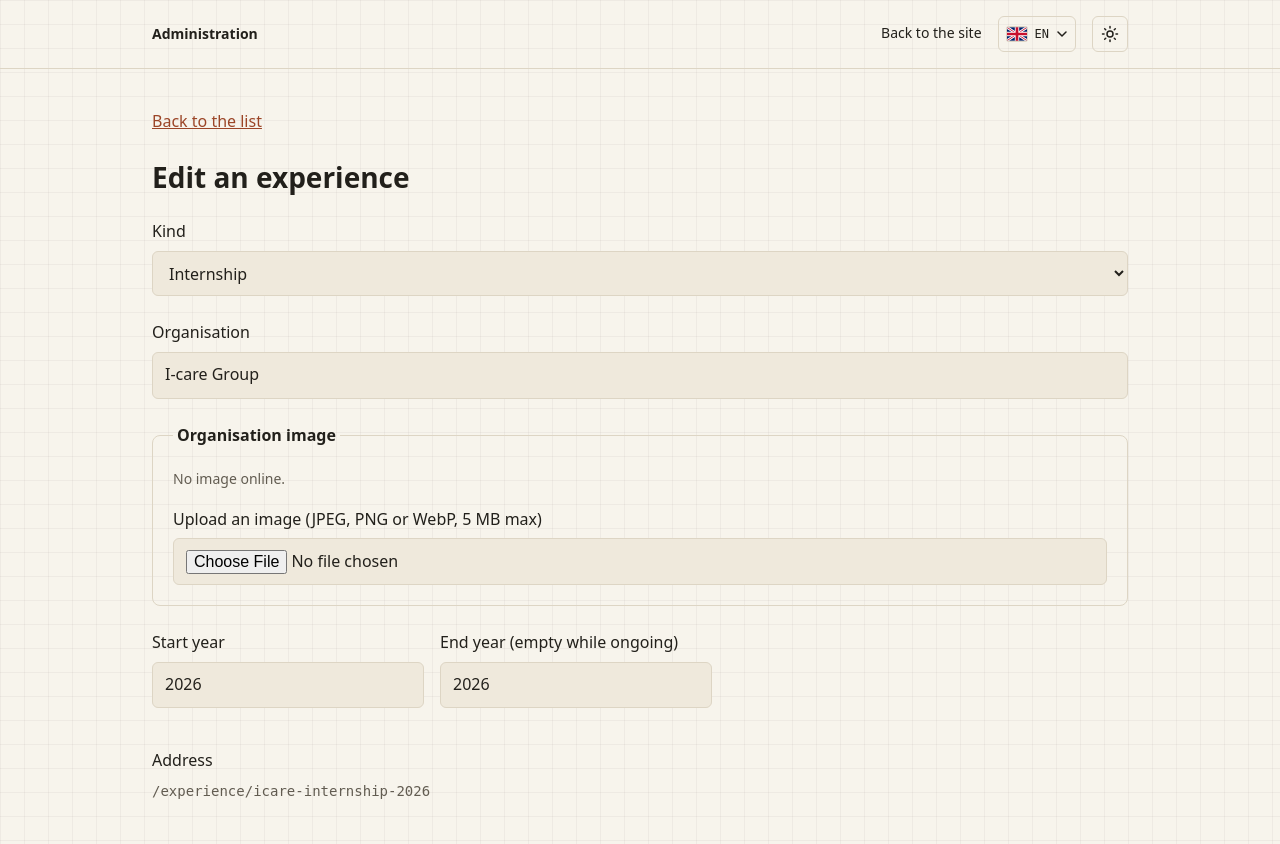
Test: editing an experience › saves twice in a row
The width and height of the screenshot is (1280, 844).
Replace the text in the field labelled "Organisation" with "First" at (640, 375), box [152,352,1128,399]
(page scrolled)
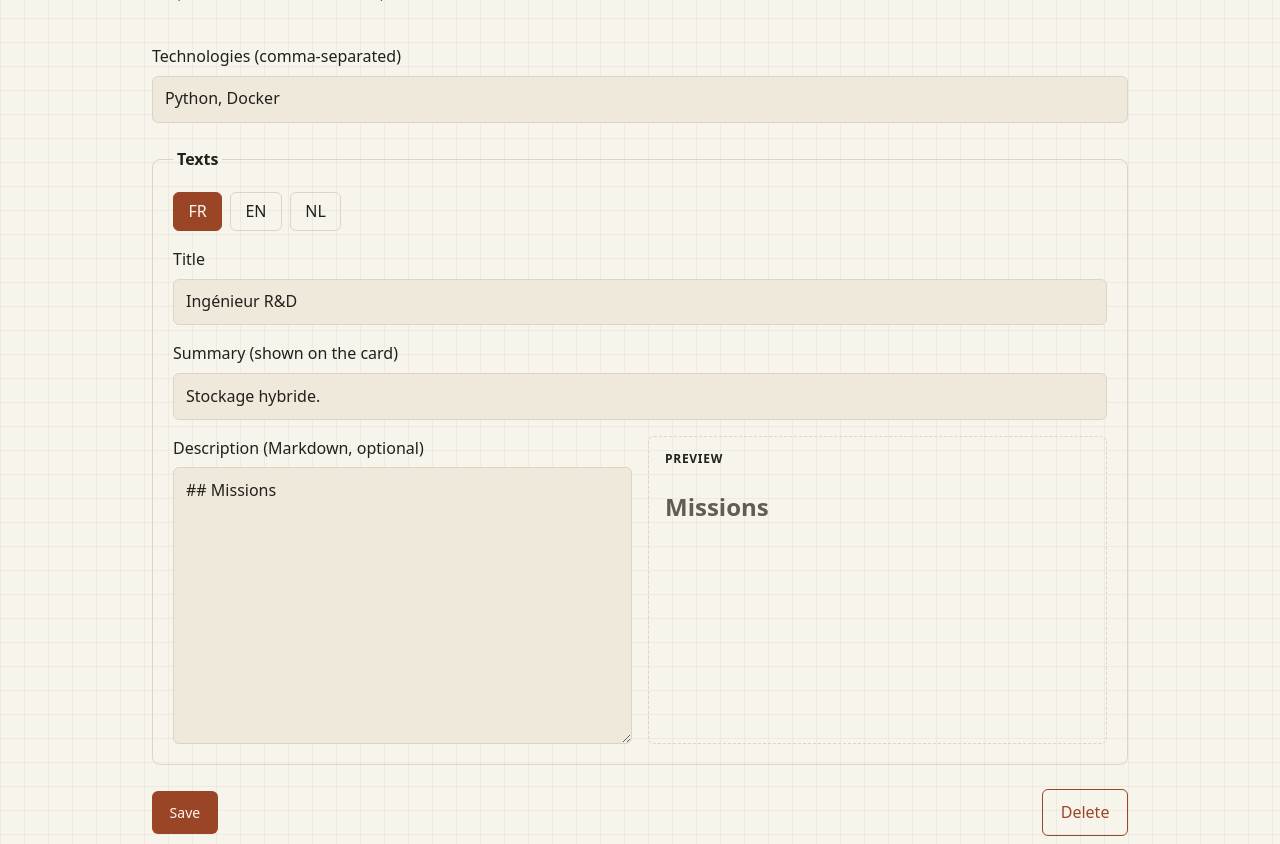
Click the button "Save" at (185, 813), box [152,791,218,834]
(page scrolled)
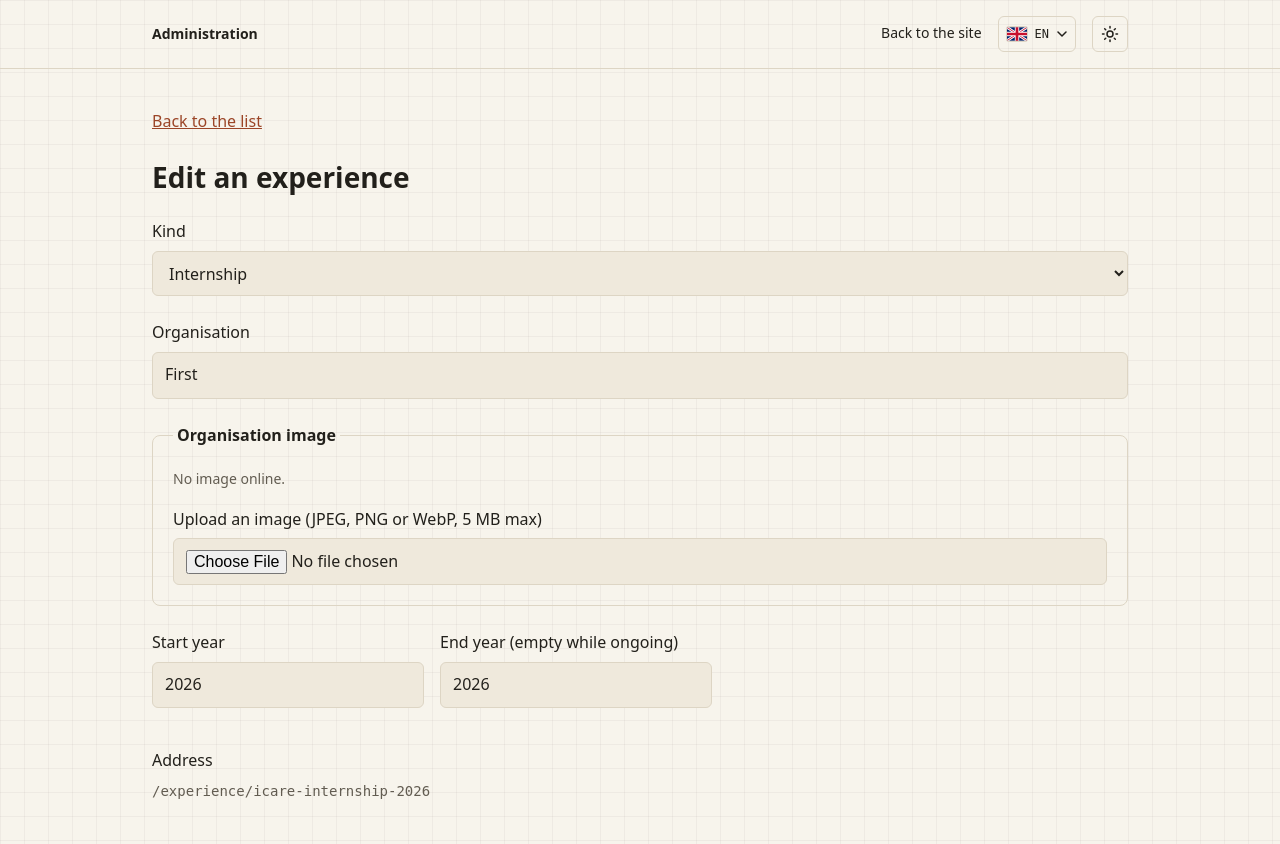
Replace the text in the field labelled "Organisation" with "Second" at (640, 375), box [152,352,1128,399]
(page scrolled)
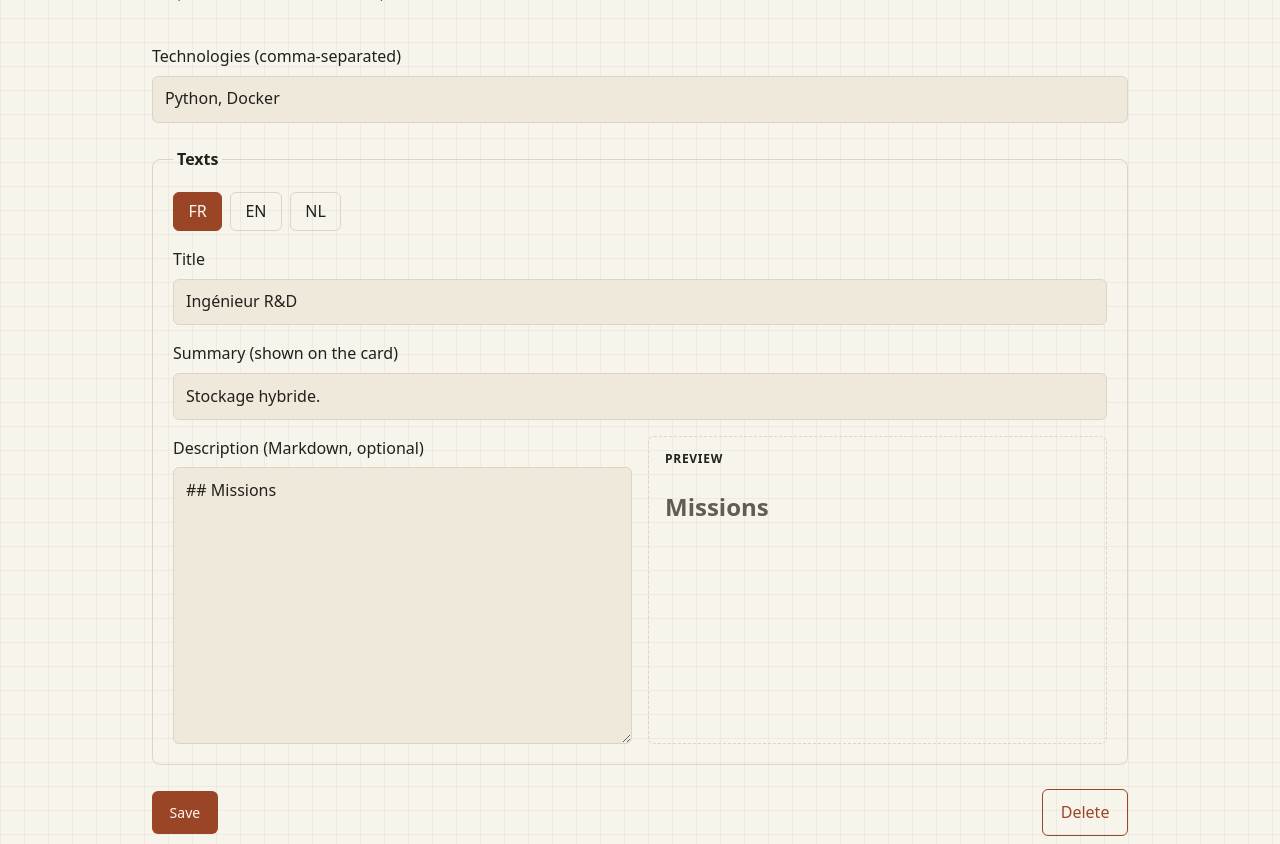
Click the button "Save" at (185, 813), box [152,791,218,834]
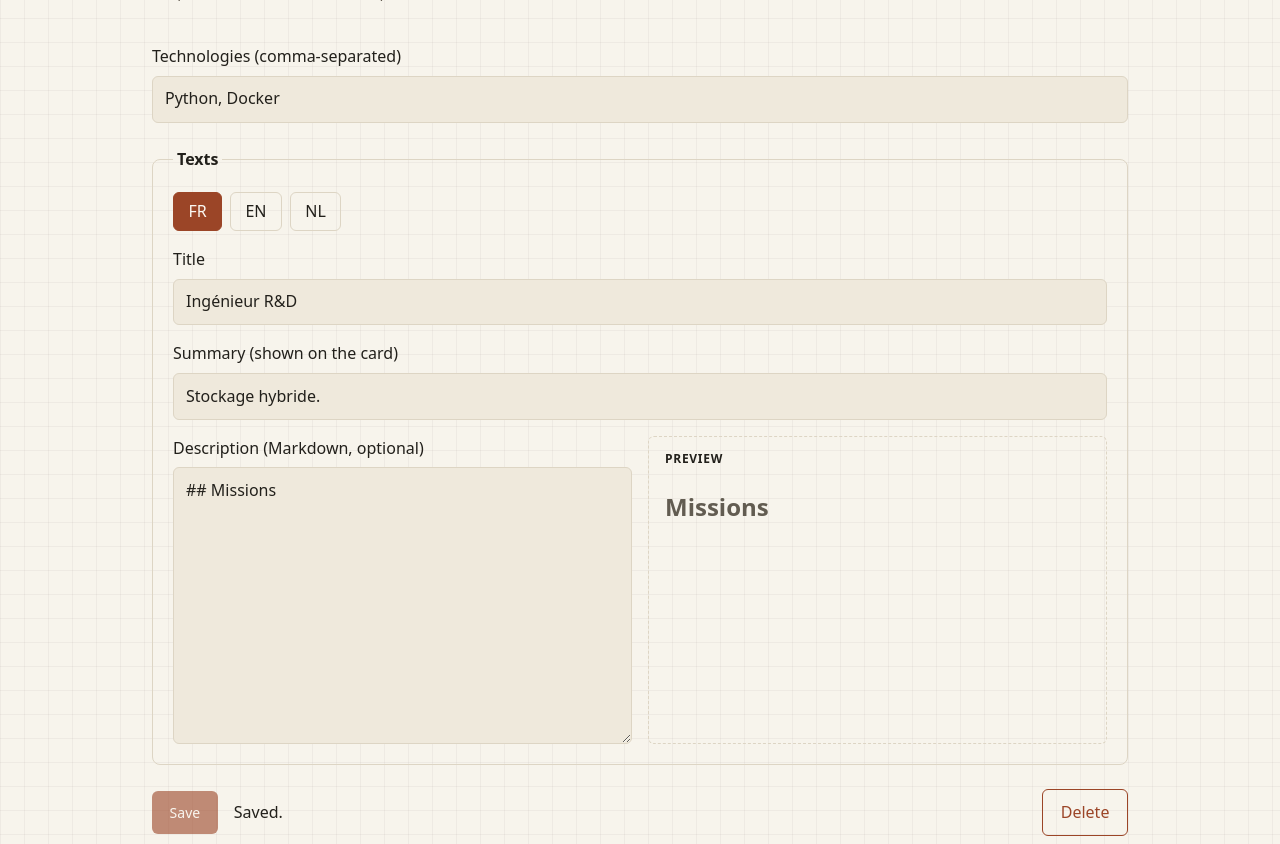
Check: the text "Saved." is shown, box [234,800,283,826]
